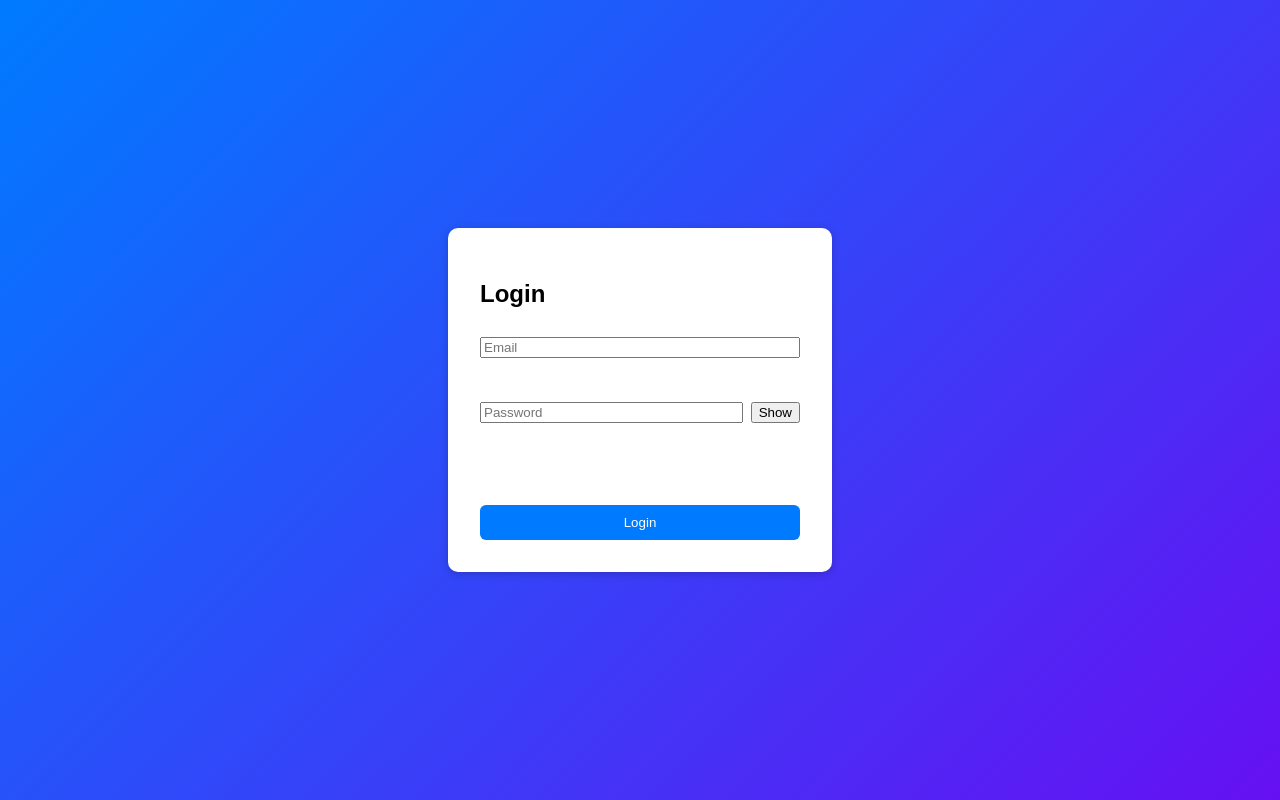
it: Login básico › muestra error con credenciales inválidas (401)
Type "andrea@example.com" into the field with test id "email-input" at (640, 348), box [480,337,800,358]
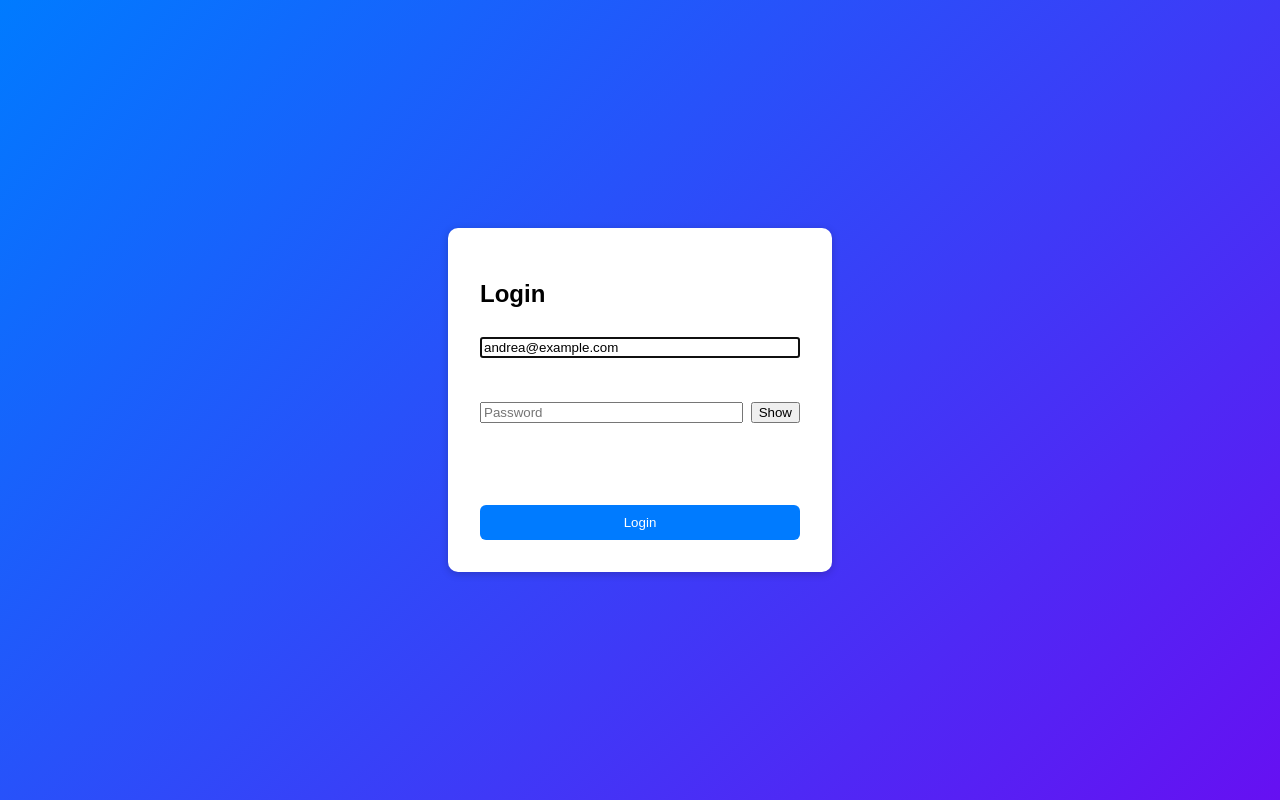
Type "wrongpass" into the password field with test id "password-input" at (612, 413), box [480,402,743,423]
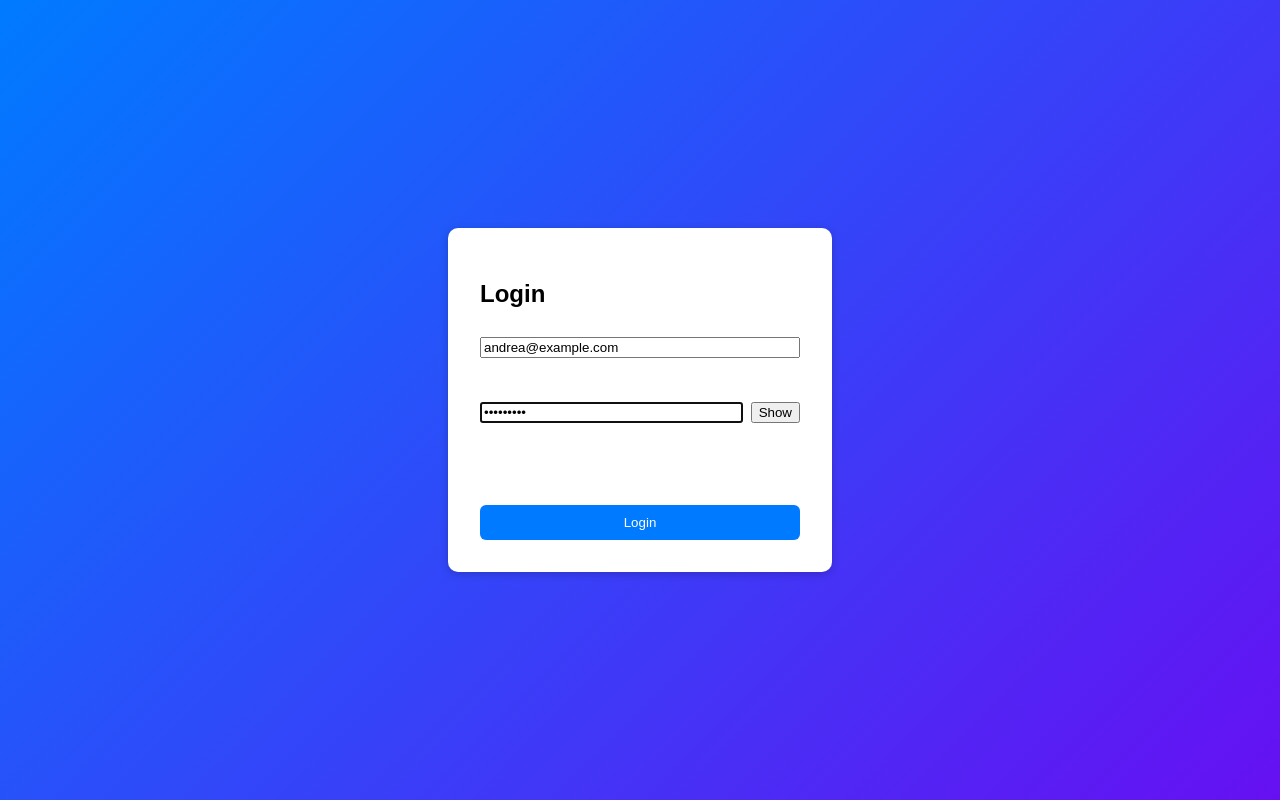
Click the button with test id "submit-button" at (640, 523), box [480,505,800,540]
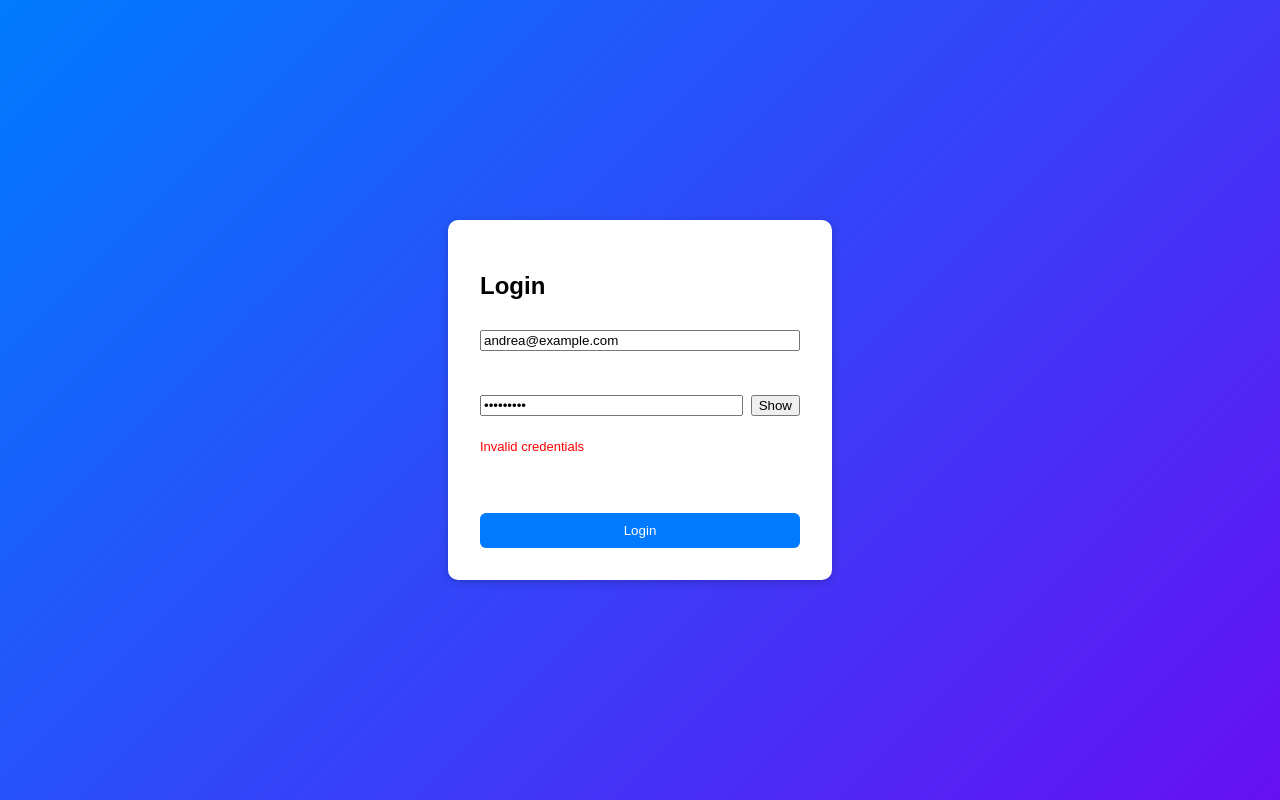
Check: the text with test id "error-text" reads "Invalid credentials", box [480,439,584,454]
